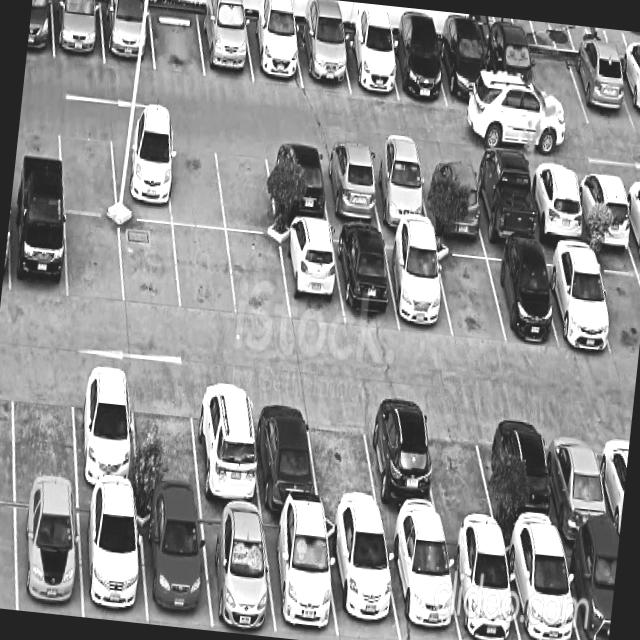car: (6, 502, 84, 616), (134, 511, 208, 629), (201, 518, 275, 636), (183, 412, 260, 522), (265, 524, 336, 640), (74, 508, 144, 622), (328, 534, 402, 640), (66, 401, 140, 506), (363, 420, 434, 528), (389, 537, 460, 640), (252, 421, 317, 532), (488, 423, 552, 533), (508, 547, 582, 640), (552, 253, 616, 359), (452, 541, 519, 640), (544, 437, 609, 539), (388, 238, 452, 337), (496, 249, 558, 349), (109, 124, 174, 216), (477, 160, 537, 259), (424, 148, 483, 248), (338, 228, 397, 328), (263, 141, 328, 228), (278, 228, 340, 319), (577, 171, 634, 268), (390, 11, 448, 106), (528, 168, 584, 264), (8, 209, 69, 296), (572, 26, 628, 117), (439, 18, 494, 110), (487, 18, 539, 115), (346, 3, 398, 99), (197, 0, 255, 85), (298, 0, 352, 91), (370, 151, 426, 237), (248, 0, 303, 86), (323, 147, 377, 229), (100, 0, 154, 64), (52, 0, 103, 61)
free: (5, 383, 80, 500), (130, 404, 200, 512), (306, 424, 378, 526), (424, 424, 490, 530), (437, 251, 505, 342), (167, 133, 226, 230), (61, 216, 126, 304), (116, 215, 179, 305), (220, 138, 280, 229), (54, 131, 116, 215), (224, 228, 284, 314), (527, 32, 584, 118), (172, 223, 231, 304), (148, 0, 207, 78)
